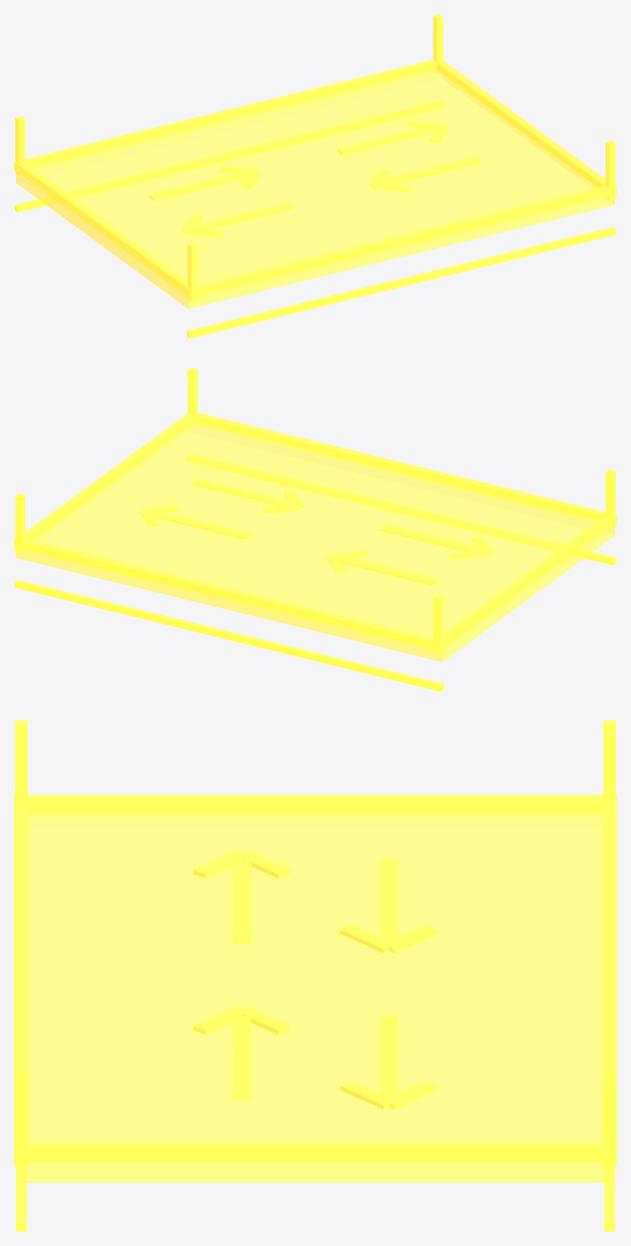
Rendered from Deck_Ghost_Switch_v2.glb.
3 views of the same model, one above another, from view 1: azimuth 30°, elevation 25°; view 2: azimuth 150°, elevation 25°; view 3: azimuth 270°, elevation 25° (orthographic). The views are drawn at different scales.
Parts seen in each view (by area): view 1: Deck_Ghost_Switch_v2; view 2: Deck_Ghost_Switch_v2; view 3: Deck_Ghost_Switch_v2.
Boxes of the visible parts, x1,y1,x2,y2 form: Deck_Ghost_Switch_v2: (14, 14, 616, 338); Deck_Ghost_Switch_v2: (14, 367, 616, 691); Deck_Ghost_Switch_v2: (14, 720, 616, 1231).
Bounding box in the file's own units: 4 × 0.825 × 2.87.
